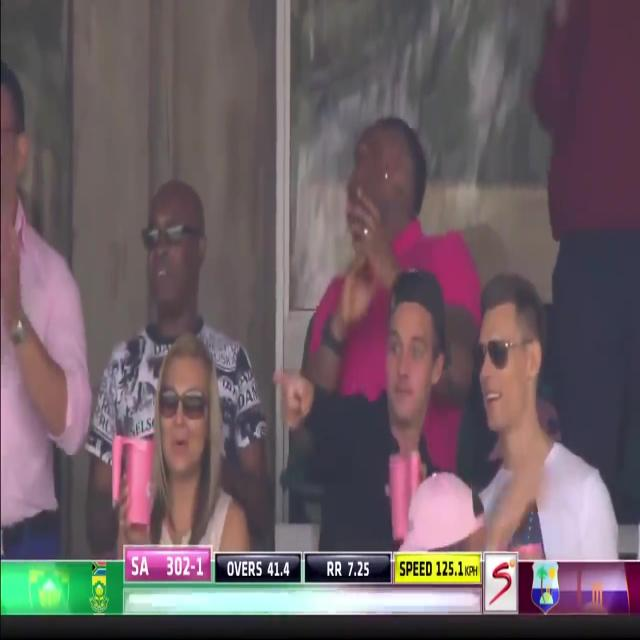Ball: (278, 4, 525, 545)
